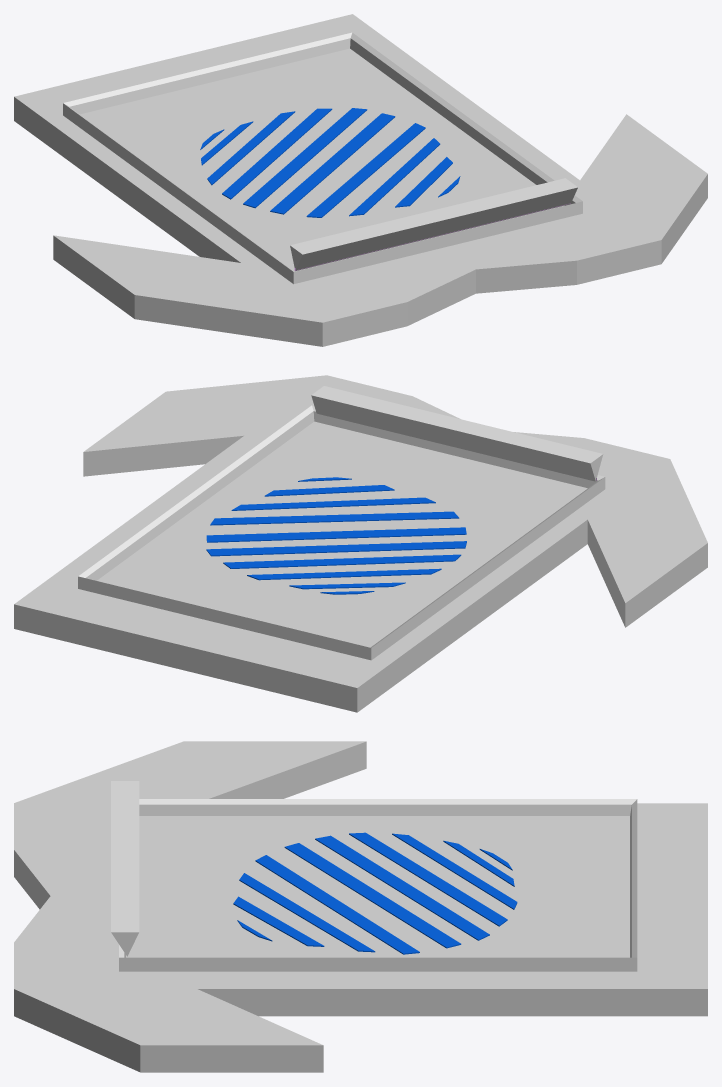
File: blend5.gltf
The picture shows the model from 3 angles, top to bottom: view 1: azimuth 30°, elevation 25°; view 2: azimuth 150°, elevation 25°; view 3: azimuth 270°, elevation 25°; orthographic projection. The views are drawn at different scales.
Visible parts, largest first — view 1: Cube.001, Cube, Cube.002, Cube.021, Cube.012, Cube.020, Cube.017, Cube.019, Cube.016, Cube.018; view 2: Cube.001, Cube, Cube.002, Cube.021, Cube.012, Cube.020, Cube.017, Cube.019, Cube.016, Cube.018; view 3: Cube.001, Cube, Cube.002, Cube.021, Cube.012, Cube.020, Cube.017, Cube.019, Cube.016, Cube.018, Cube.015.
Boxes of the visible parts, <box> form: Cube.001: <box>14,14,707,346</box>; Cube: <box>63,32,582,284</box>; Cube.002: <box>290,178,577,270</box>; Cube.021: <box>270,113,395,214</box>; Cube.012: <box>243,108,367,208</box>; Cube.020: <box>306,123,425,217</box>; Cube.017: <box>222,108,332,199</box>; Cube.019: <box>349,138,440,216</box>; Cube.016: <box>207,111,295,185</box>; Cube.018: <box>395,157,452,207</box>; Cube.001: <box>14,375,707,712</box>; Cube: <box>78,405,605,660</box>; Cube.002: <box>311,386,603,481</box>; Cube.021: <box>206,527,466,542</box>; Cube.012: <box>206,541,466,556</box>; Cube.020: <box>210,511,459,525</box>; Cube.017: <box>223,554,461,568</box>; Cube.019: <box>231,497,435,510</box>; Cube.016: <box>247,568,441,580</box>; Cube.018: <box>264,485,394,496</box>; Cube.001: <box>14,741,707,1072</box>; Cube: <box>119,799,637,971</box>; Cube.002: <box>111,781,139,956</box>; Cube.021: <box>284,843,461,948</box>; Cube.012: <box>315,835,489,940</box>; Cube.020: <box>255,855,419,954</box>; Cube.017: <box>349,832,507,926</box>; Cube.019: <box>239,873,375,952</box>; Cube.016: <box>392,833,517,909</box>; Cube.018: <box>233,896,324,946</box>; Cube.015: <box>443,840,514,886</box>.
Size of the model in its own units: 3.47 by 0.3301 by 3.35.
